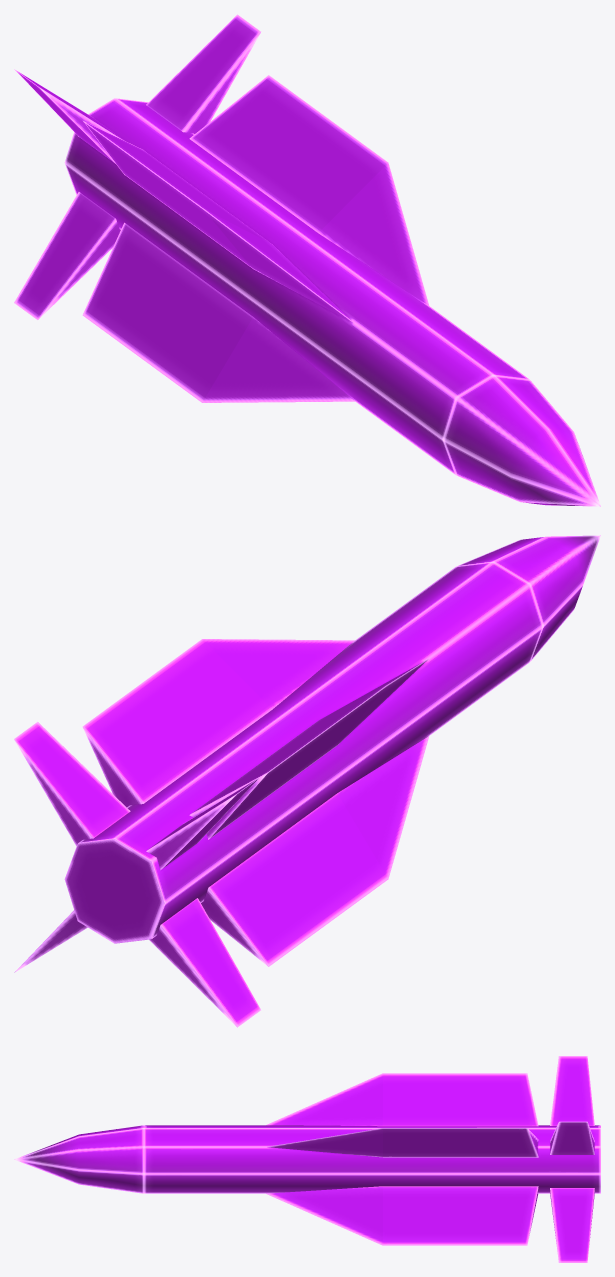
The model's file is missile.FBX.
3 renders of one model, top to bottom at view 1: azimuth 30°, elevation 25°; view 2: azimuth 150°, elevation 25°; view 3: azimuth 270°, elevation 25°, orthographic. The views are drawn at different scales.
Parts seen in each view (by area): view 1: missile; view 2: missile; view 3: missile.
Part boxes in pixels (x1,y1,x2,y2): missile: (14,14,600,506); missile: (14,535,600,1027); missile: (14,1056,600,1262).
Size of the model in its own units: 3.32 by 3.32 by 12.53.
